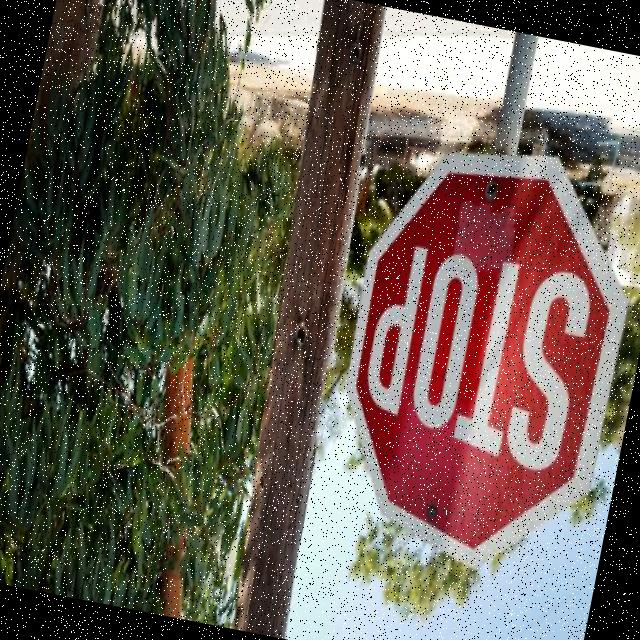stop: (299, 126, 640, 587)
